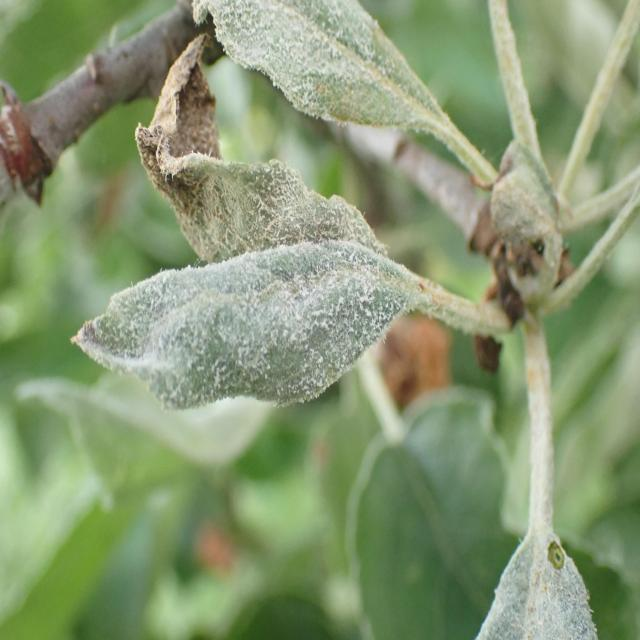Powdery_mildew: (93, 31, 410, 418), (185, 0, 504, 237), (476, 351, 618, 640)
